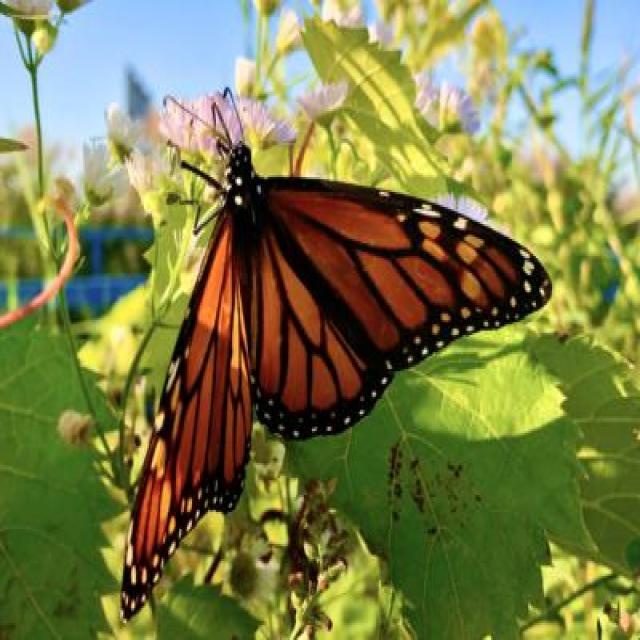antennae: (209, 80, 256, 152)
body: (222, 136, 265, 278)
insect: (121, 90, 553, 617)
legs: (165, 99, 238, 232)
wings: (252, 171, 554, 446), (123, 212, 250, 618)
